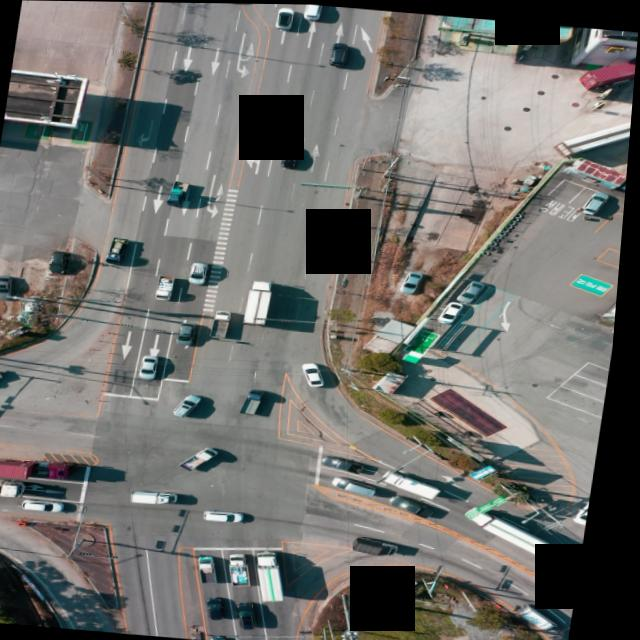car: (339, 474, 388, 493), (327, 453, 374, 471), (584, 187, 614, 213), (179, 390, 209, 415), (244, 601, 270, 628), (397, 494, 435, 512), (307, 360, 335, 384), (442, 297, 468, 321), (30, 498, 74, 512), (329, 38, 352, 64), (464, 278, 490, 301), (211, 508, 253, 522), (404, 269, 428, 293), (215, 594, 238, 618), (144, 353, 166, 378), (283, 142, 304, 165), (275, 4, 295, 27), (53, 249, 73, 272), (565, 550, 590, 568), (182, 322, 202, 344), (193, 261, 212, 283), (1, 274, 19, 294), (583, 502, 597, 521), (303, 4, 321, 17), (221, 633, 241, 640)
large_truck: (0, 451, 79, 483)
medium_truck: (468, 501, 569, 552), (555, 105, 634, 151), (259, 545, 305, 601), (389, 468, 455, 499), (250, 277, 280, 323), (0, 474, 29, 495)
small_truck: (524, 600, 570, 630), (186, 441, 226, 468), (359, 536, 408, 555), (235, 550, 262, 584), (204, 552, 232, 584), (137, 487, 187, 504), (247, 387, 273, 413), (217, 308, 239, 338), (169, 178, 193, 203), (159, 274, 183, 299), (110, 235, 132, 261), (0, 365, 13, 388), (622, 169, 630, 188)
